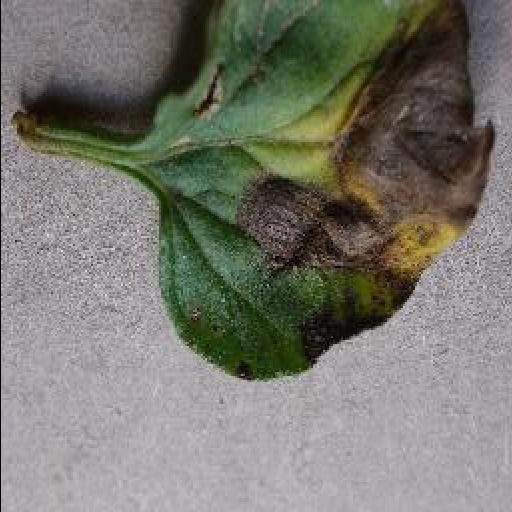disease_tomato: (150, 6, 494, 382)
